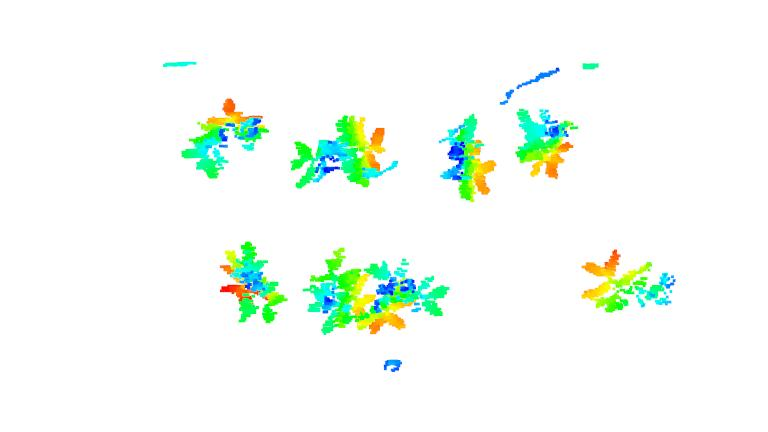chickpea: (179, 95, 270, 180), (292, 113, 389, 190), (305, 246, 378, 337), (578, 249, 676, 315), (367, 259, 450, 333), (217, 242, 288, 326), (437, 113, 498, 203), (514, 106, 578, 182)
